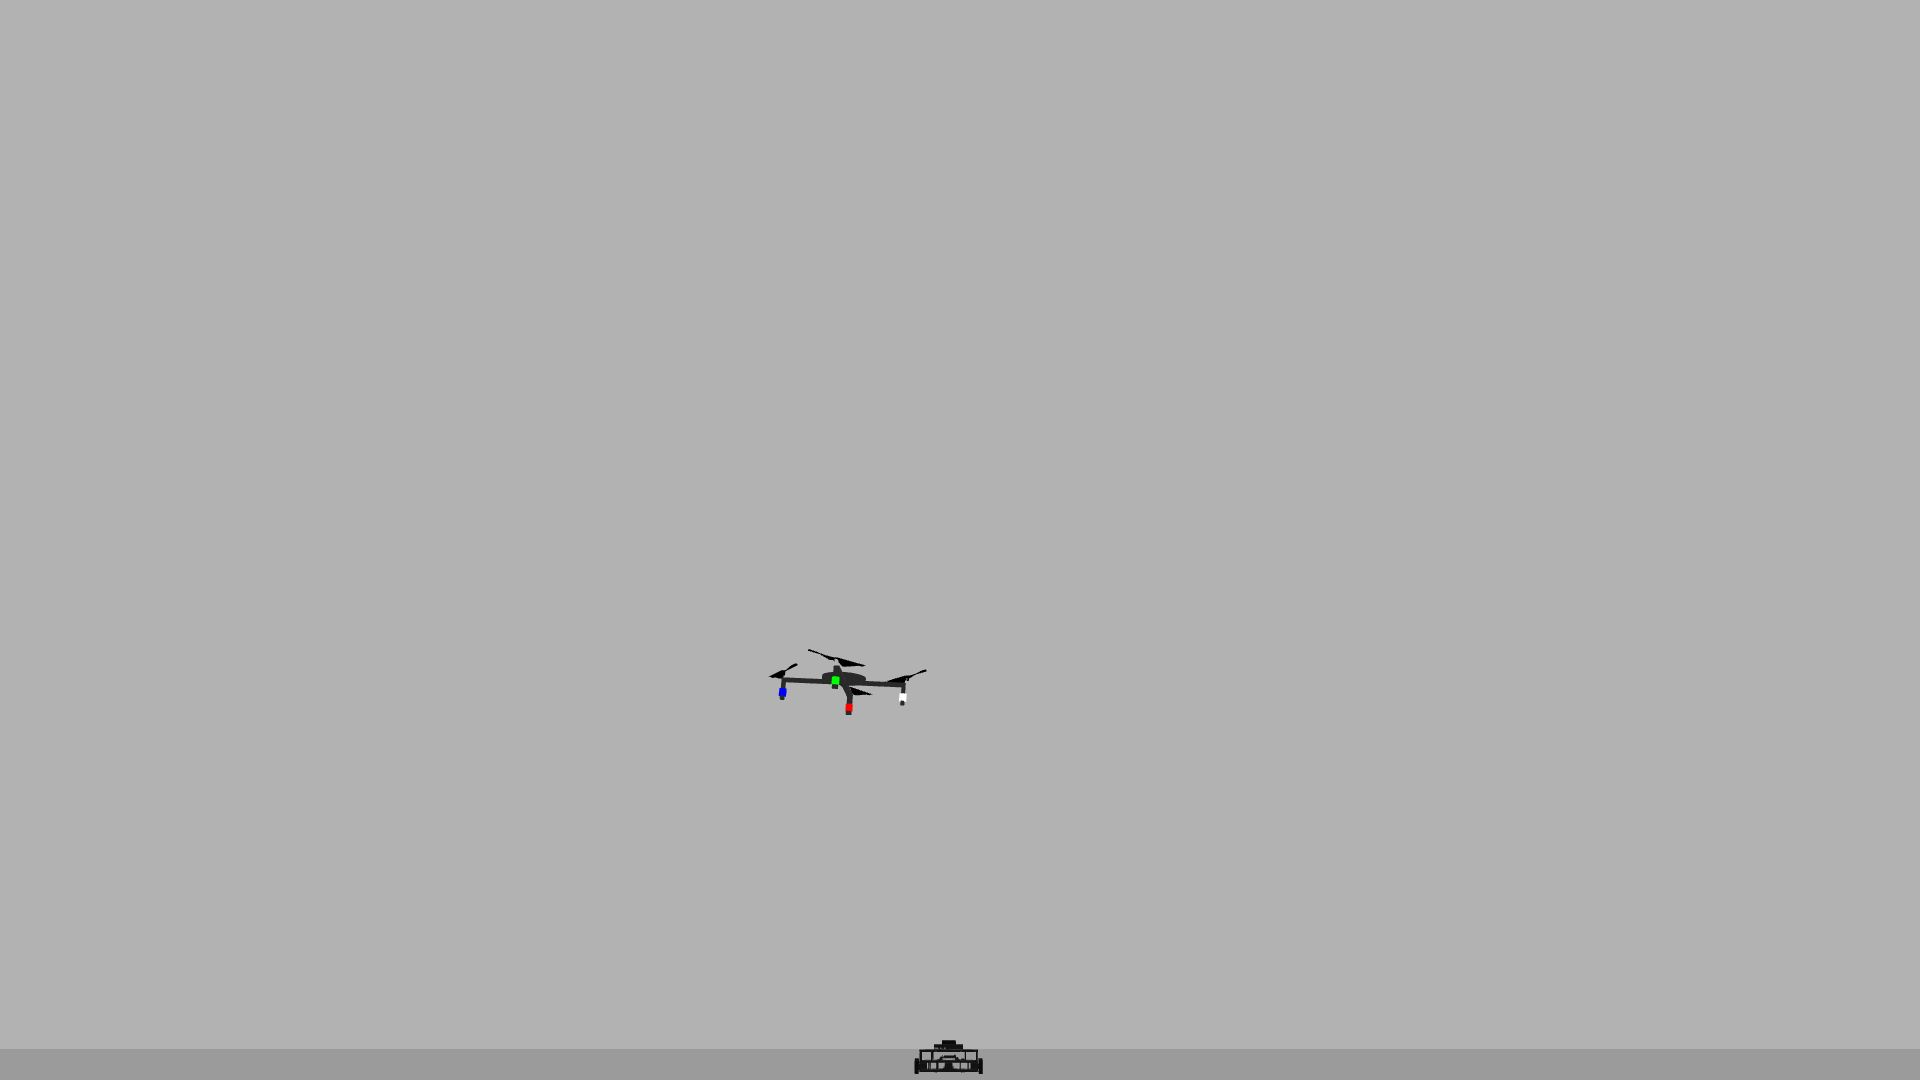drone: (744, 618, 948, 742)
